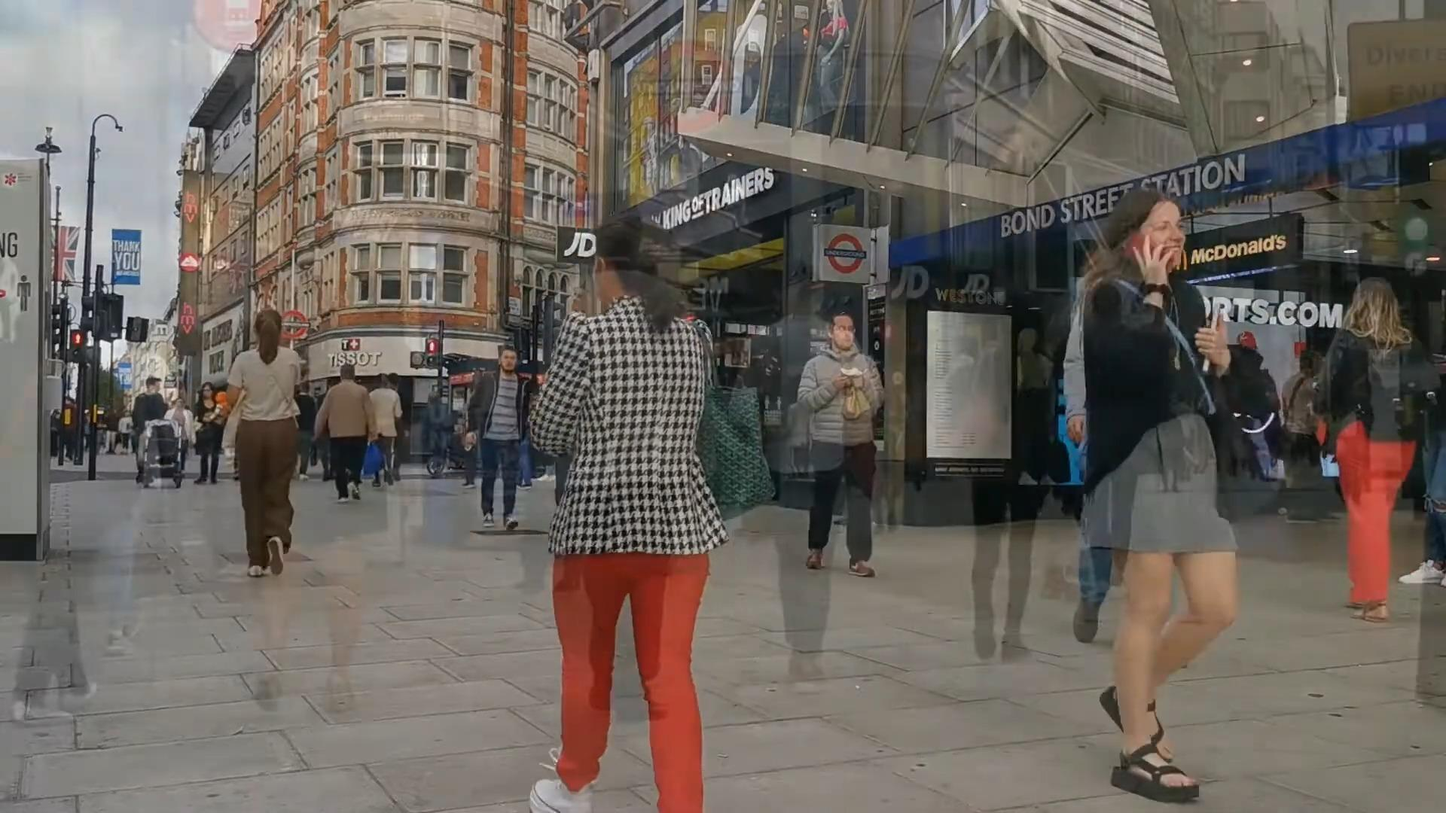no-helmet: (593, 214, 674, 312), (1104, 186, 1186, 275), (1343, 276, 1407, 353), (253, 309, 282, 364), (827, 311, 856, 350), (498, 345, 520, 375)
